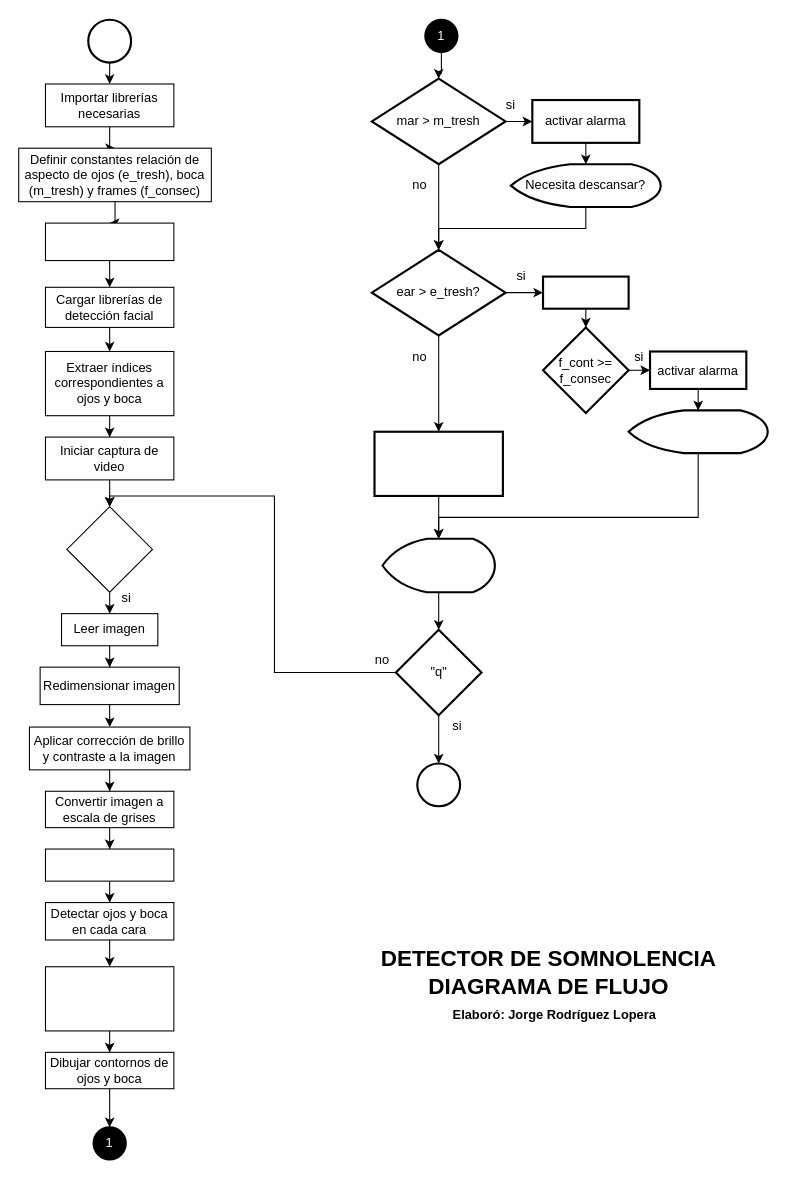
This 788x1178 diagram has some shape labels left out. The centre of each missing label's shape, as x and y in pixels:
"Alerta somnolencia" goes at (697,431).
"Calcular relación de aspecto de ojos (ear) y boca (mar)" goes at (109,998).
"Detectar caras" goes at (109,864).
"f_cnt += 1" goes at (585,292).
"f_cnt = 0" goes at (438,463).
"Fin" goes at (438,784).
"imagen ear mar" goes at (438,565).
"Iniciar contador de frames (f_cnt)" goes at (109,241).
"Inicio" goes at (109,40).
"True" goes at (109,549).
